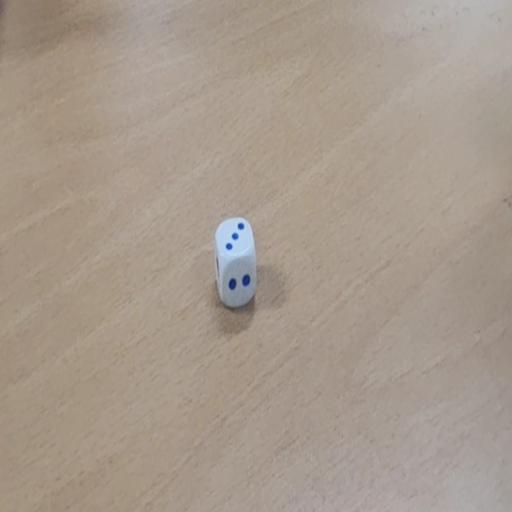dice_3: (213, 215, 258, 309)
